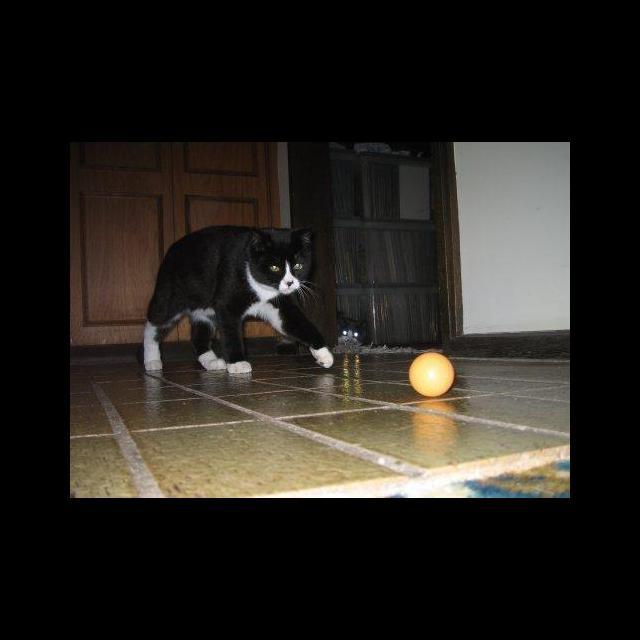ping-pong-ball: (405, 350, 457, 397)
